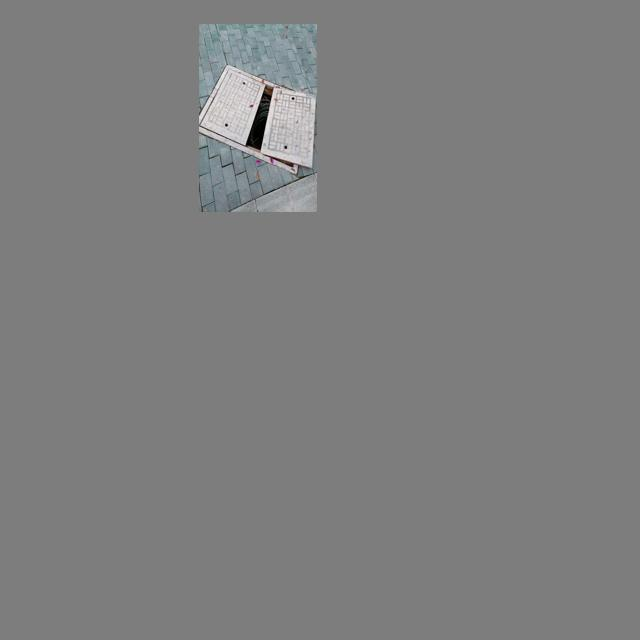uncovered: (199, 64, 316, 176)
